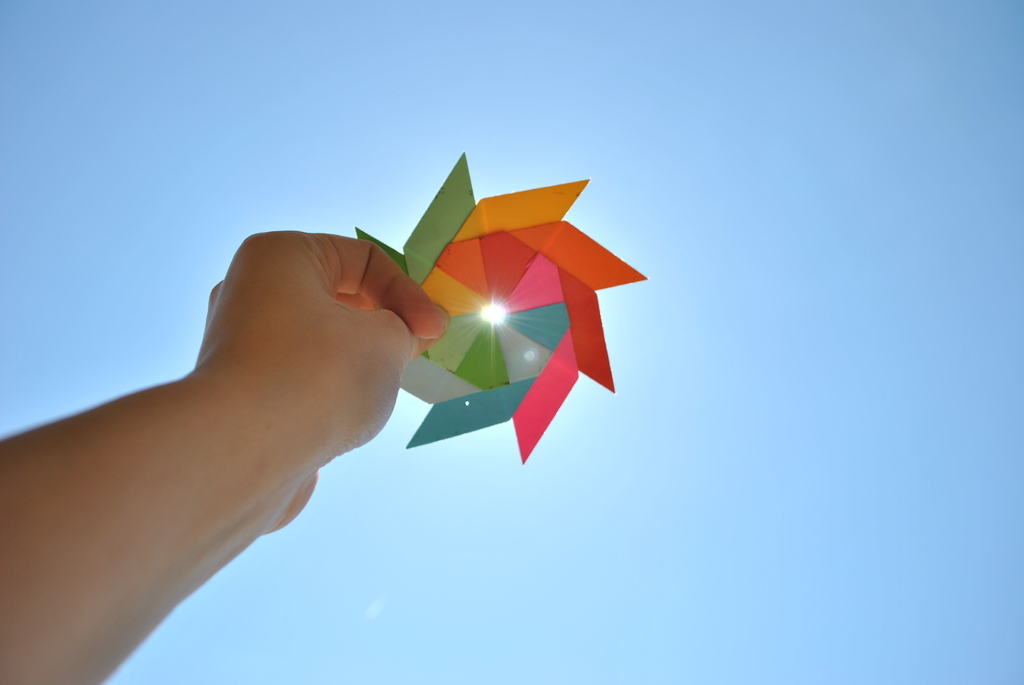Human_hand: (127, 211, 435, 569)
